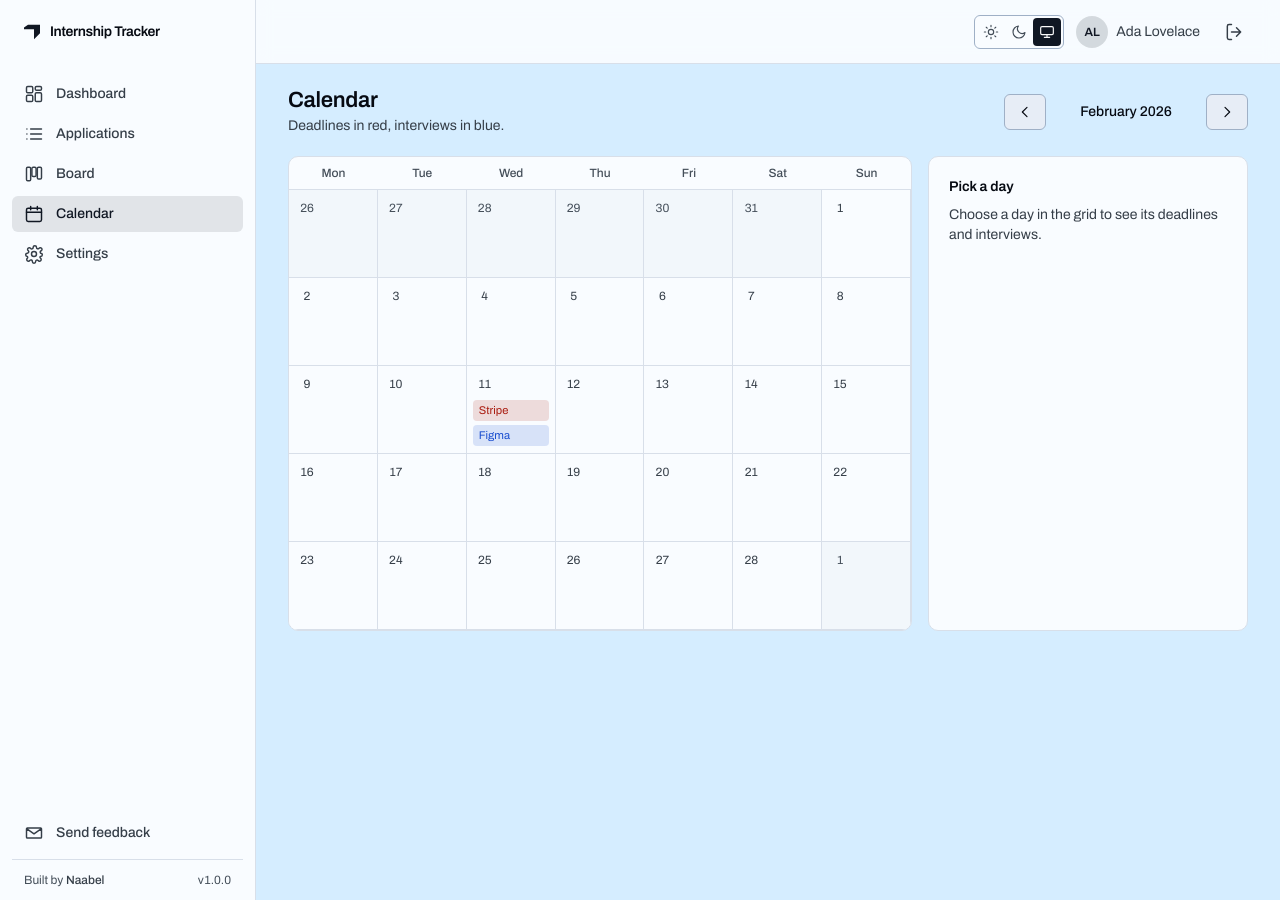
Test: day selection › lists the events for the day that was clicked
This screenshot has width=1280, height=900.
Expected: the text "February 2026" is shown, [1080,104,1172,119]
Click the cell named "11 February 2026": (511,410) [467,366,556,454]
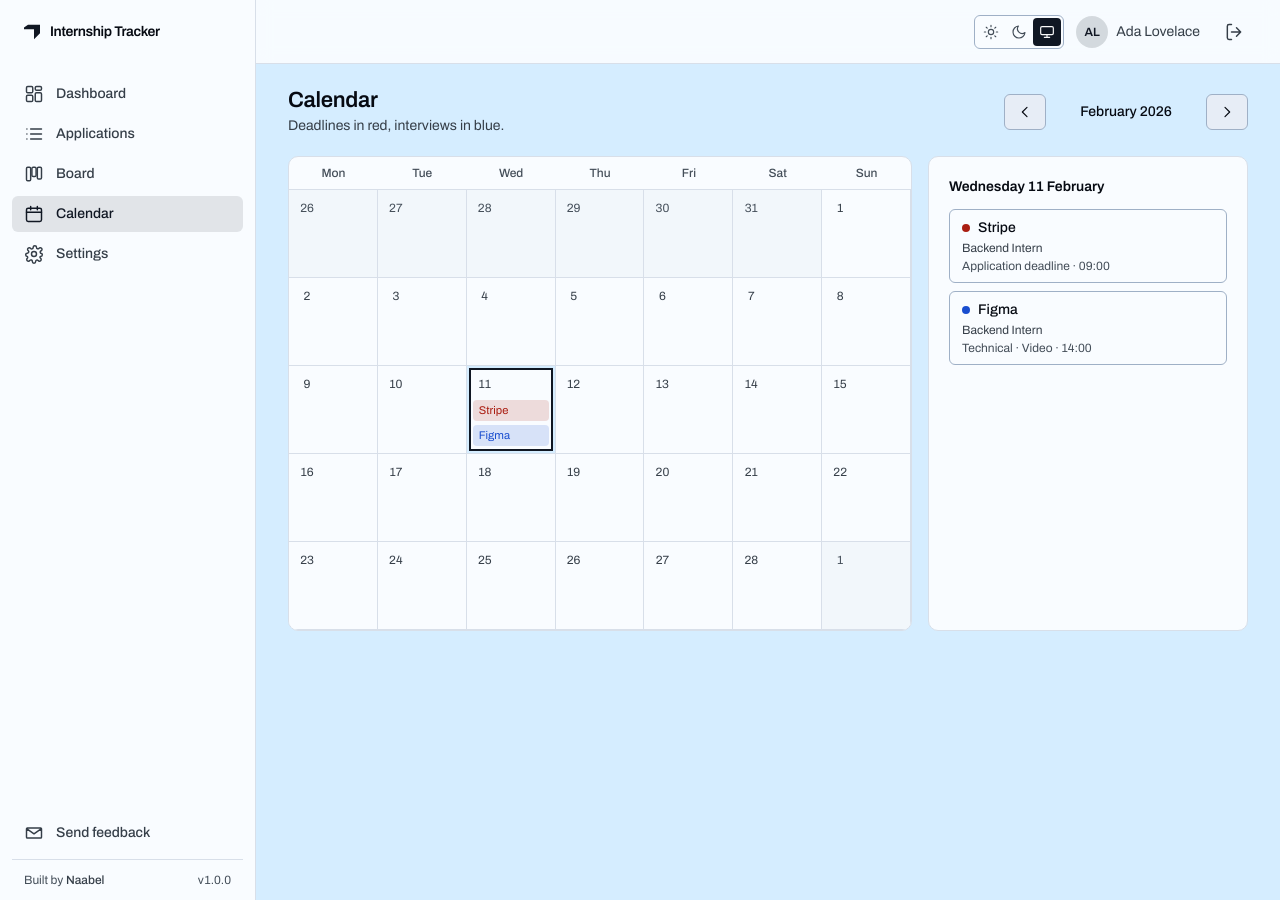
Expected: the text "Application deadline · 09:00" is shown, [962,258,1146,273]
Expected: the text "Technical · Video · 14:00" is shown, [962,340,1129,355]
